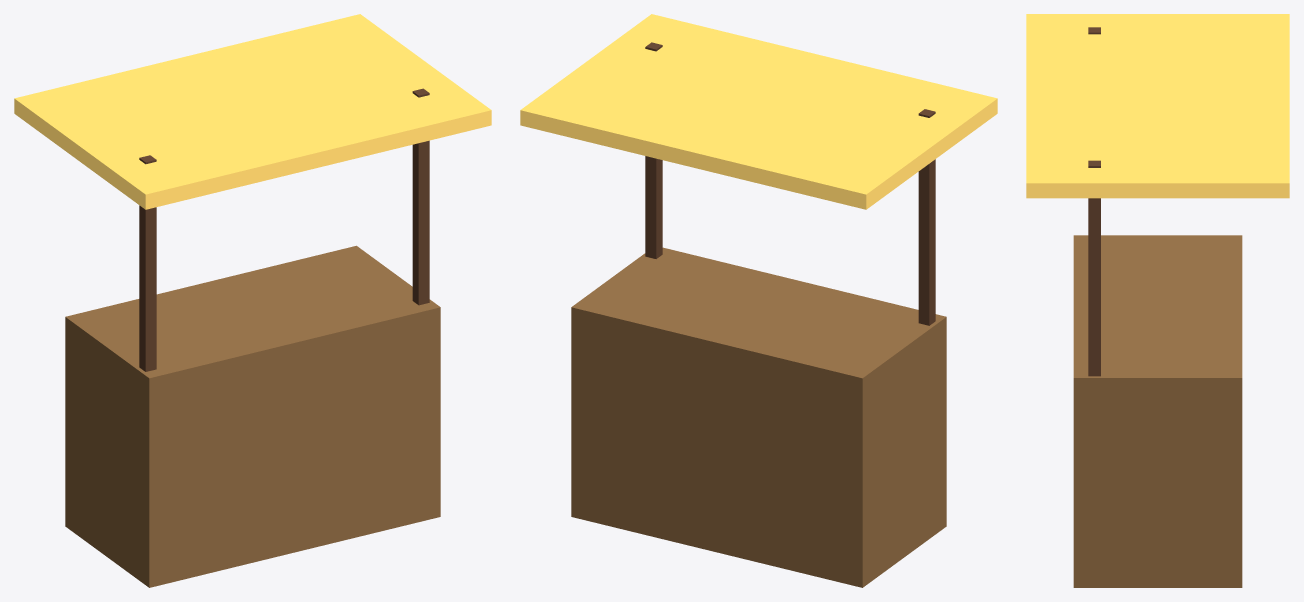
File: market_stall.glb
3 renders of one model, left to right at view 1: azimuth 30°, elevation 25°; view 2: azimuth 150°, elevation 25°; view 3: azimuth 270°, elevation 25°, orthographic.
Parts seen in each view (by area): view 1: counter, canopy, post (×2); view 2: counter, canopy, post (×2); view 3: counter, canopy, post.
Part boxes in pixels (x1,y1,x2,y2): counter: (65,245,440,587); canopy: (14,14,491,209); post (×2): (139,88,429,371); counter: (571,247,946,587); canopy: (520,14,997,209); post (×2): (645,42,935,325); counter: (1073,235,1242,587); canopy: (1026,14,1289,198); post: (1088,160,1100,376).
Bounding box in the file's own units: 1.9 × 2.2 × 1.25.
